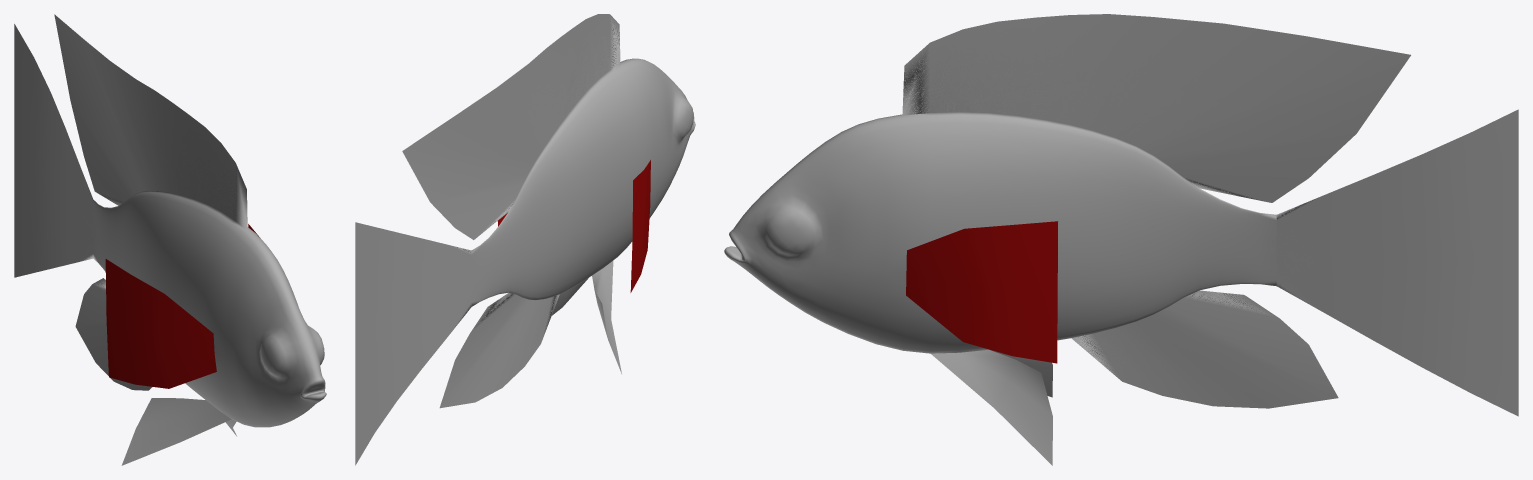
The model's file is Pomacentridae_A.fbx.
The picture shows the model from 3 angles, left to right: view 1: azimuth 30°, elevation 25°; view 2: azimuth 150°, elevation 25°; view 3: azimuth 270°, elevation 25°; orthographic projection. The views are drawn at different scales.
Visible parts, largest first — view 1: Pomacentridae_A_LOD0; view 2: Pomacentridae_A_LOD0; view 3: Pomacentridae_A_LOD0.
Part boxes in pixels (x1,y1,x2,y2): Pomacentridae_A_LOD0: (14, 14, 326, 465); Pomacentridae_A_LOD0: (355, 14, 695, 465); Pomacentridae_A_LOD0: (724, 14, 1518, 465).
Size of what is drawn, in the model's own units: 0.2532 by 0.5842 by 1.01.
